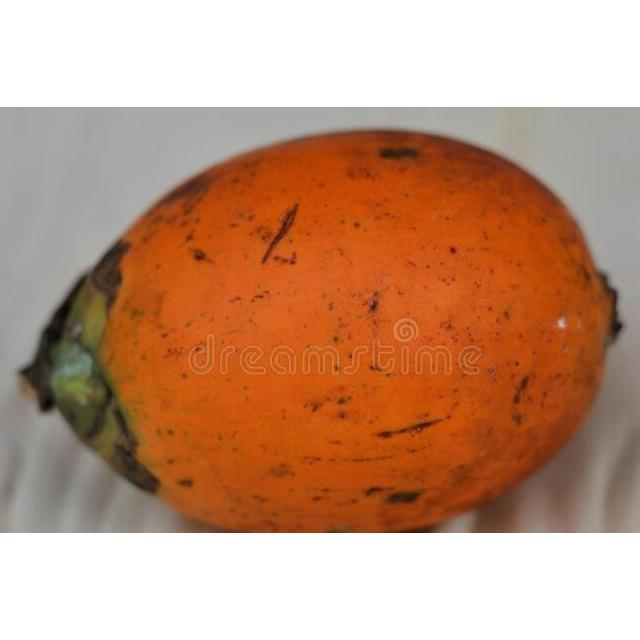good: (18, 129, 622, 533)
